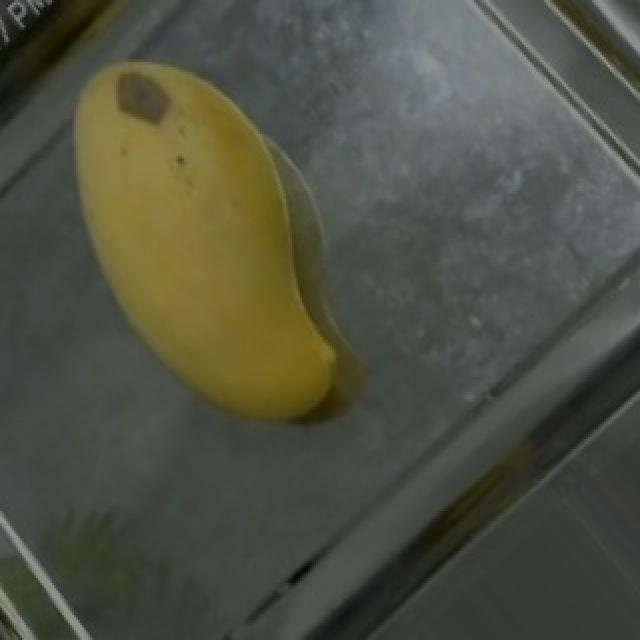fruit: (6, 12, 386, 417)
